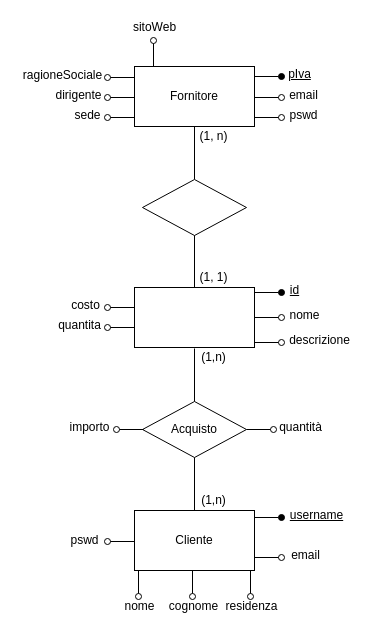
Image size: 376x633. Some labels were removed from this diagram. Here are the shapes that lost their labels. From the top down, the centre of each, then its label:
point (194, 207): Vendita
point (194, 317): Prodotto
